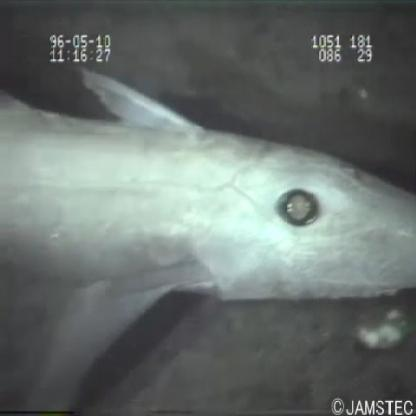Bio: (1, 66, 416, 381)
